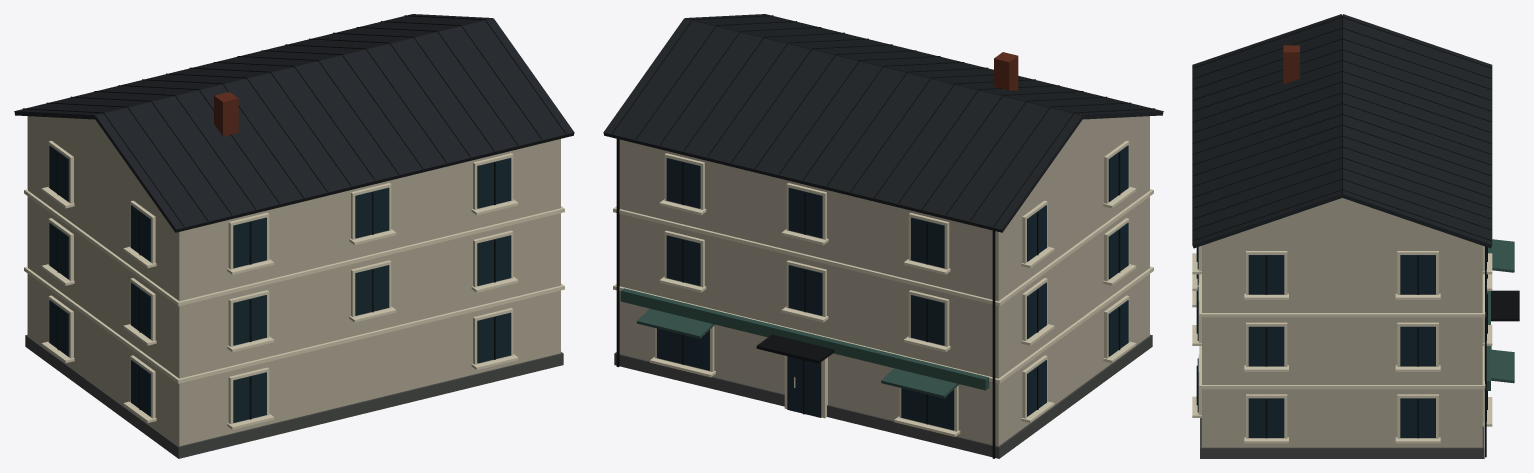
File: 01_MarketRow.obj
The picture shows the model from 3 angles, left to right: view 1: azimuth 30°, elevation 25°; view 2: azimuth 150°, elevation 25°; view 3: azimuth 270°, elevation 25°; orthographic projection. The views are drawn at different scales.
Visible parts, largest first — view 1: Plaster, Roof, Trim, Glass, Metal, Base, Brick; view 2: Plaster, Roof, Glass, Trim, Metal, Awning, Base, Brick; view 3: Roof, Plaster, Metal, Trim, Glass, Base, Awning, Brick.
Part boxes in pixels (x1,y1,x2,y2): Plaster: (28,116,560,446); Roof: (14,14,574,232); Trim: (24,140,564,429); Glass: (49,145,511,422); Metal: (23,15,565,419); Base: (25,334,563,458); Brick: (214,92,238,136); Plaster: (619,116,1149,446); Roof: (603,14,1163,232); Glass: (657,145,1128,430); Trim: (613,140,1153,436); Metal: (612,15,1154,458); Awning: (620,288,989,398); Base: (614,334,1152,458); Brick: (994,52,1018,90); Roof: (1192,14,1492,248); Plaster: (1202,198,1482,447); Metal: (1193,16,1519,457); Trim: (1192,246,1492,443); Glass: (1197,247,1486,437); Base: (1200,418,1484,458); Awning: (1484,239,1514,390); Brick: (1283,45,1299,83).
Size of the model in its own units: 16.76 by 12.1 by 12.83.
